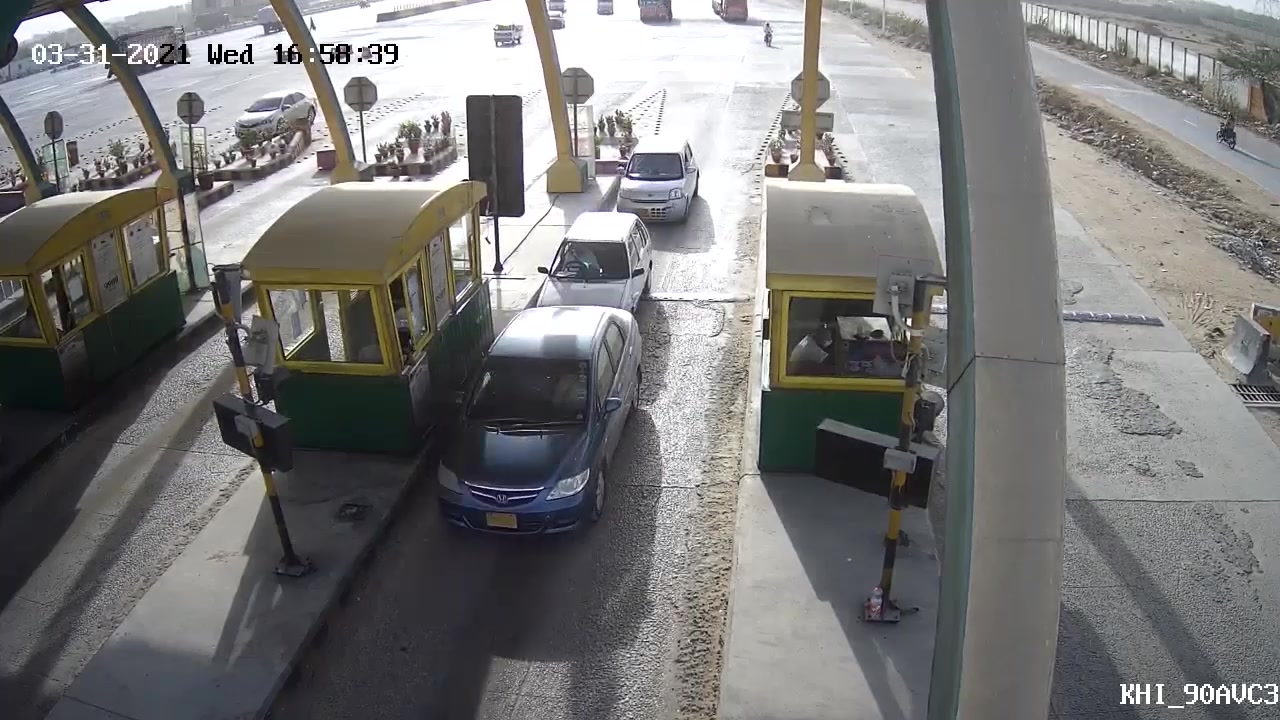F1: (414, 301, 646, 549)
